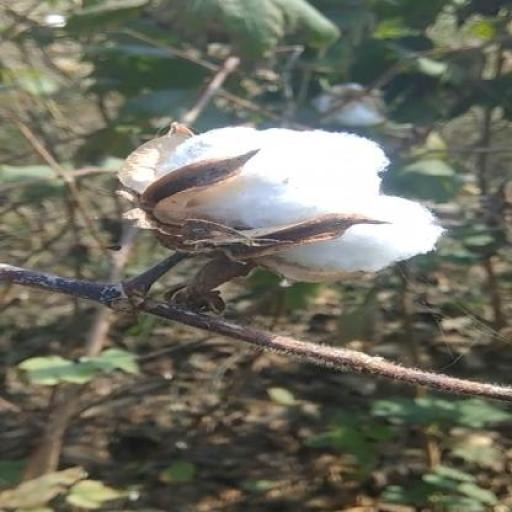cotton_ready: (121, 84, 433, 314)
